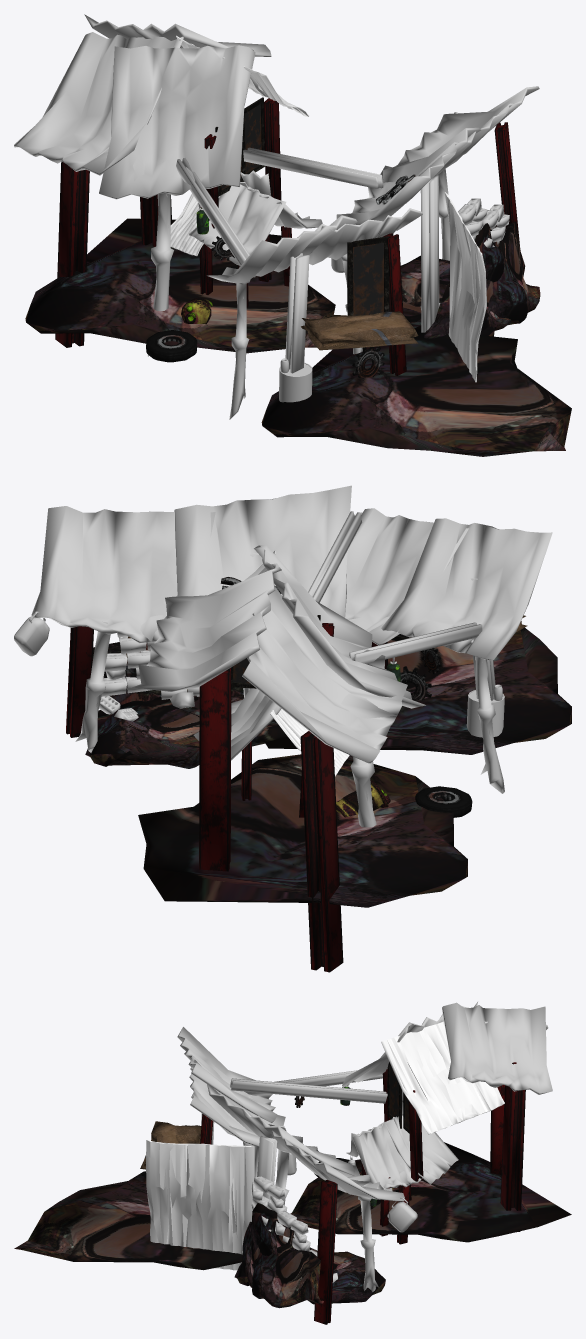
File: Lil Chinese street.fbx
The picture shows the model from 3 angles, top to bottom: view 1: azimuth 30°, elevation 25°; view 2: azimuth 150°, elevation 25°; view 3: azimuth 270°, elevation 25°; orthographic projection. The views are drawn at different scales.
Parts seen in each view (by area): view 1: Cube.023, Corrugated_Roof_003.006, Cube.024, Corrugated_Roof_005.008, low_poly_metal_sheet1.006, IronBeam01_001.030, Cardboard02_2.001, Corrugated_Roof_002.007, fenceDoor.010, Corrugated_Roof_002.008, Corrugated_Roof_005.006, Corrugated_Roof_002.006 (+28 smaller); view 2: Cube.024, Corrugated_Roof_005.006, Corrugated_Roof_002.006, Corrugated_Roof_002.007, Cube.023, Corrugated_Roof_005.008, Corrugated_Roof_002.009, Corrugated_Roof_005.005, IronBeam01_001.030, IronBeam01_001.029, Cube.019, Corrugated_Roof_003.006 (+16 smaller); view 3: low_poly_metal_sheet1.006, Cube.024, Cube.023, Corrugated_Roof_002.009, low_poly_metal_sheet1.008, Cube.018, IronBeam01_001.029, Corrugated_Roof_002.006, Corrugated_Roof_005.007, IronBeam01.002, Corrugated_Roof_005.006, IronBeam01_001.020 (+18 smaller).
Part boxes in pixels (box(x1,y1,x2,y2)): Cube.023: box(261, 325, 571, 456); Corrugated_Roof_003.006: box(99, 45, 255, 199); Cube.024: box(25, 218, 335, 353); Corrugated_Roof_005.008: box(14, 32, 183, 175); low_poly_metal_sheet1.006: box(444, 192, 486, 382); IronBeam01_001.030: box(55, 161, 89, 347); Cardboard02_2.001: box(301, 311, 418, 350); Corrugated_Roof_002.007: box(336, 127, 480, 224); fenceDoor.010: box(347, 236, 389, 315); Corrugated_Roof_002.008: box(189, 184, 286, 265); Corrugated_Roof_005.006: box(380, 86, 539, 179); Corrugated_Roof_002.006: box(207, 215, 357, 283); Cube.024: box(138, 754, 467, 907); Corrugated_Roof_005.006: box(31, 506, 215, 643); Corrugated_Roof_002.006: box(381, 518, 552, 659); Corrugated_Roof_002.007: box(174, 485, 351, 617); Cube.023: box(264, 627, 571, 754); Corrugated_Roof_005.008: box(242, 587, 407, 763); Corrugated_Roof_002.009: box(132, 567, 281, 691); Corrugated_Roof_005.005: box(345, 508, 468, 645); IronBeam01_001.030: box(300, 731, 343, 972); IronBeam01_001.029: box(199, 668, 231, 871); Cube.019: box(85, 697, 199, 768); Corrugated_Roof_003.006: box(254, 545, 425, 708); low_poly_metal_sheet1.006: box(146, 1140, 254, 1270); Cube.024: box(290, 1142, 571, 1242); Cube.023: box(14, 1171, 242, 1270); Corrugated_Roof_002.009: box(442, 1002, 552, 1094); low_poly_metal_sheet1.008: box(381, 1021, 504, 1134); Cube.018: box(251, 1244, 323, 1308); IronBeam01_001.029: box(500, 1062, 525, 1232); Corrugated_Roof_002.006: box(177, 1027, 277, 1122); Corrugated_Roof_005.007: box(352, 1116, 422, 1189); IronBeam01.002: box(314, 1180, 337, 1324); Corrugated_Roof_005.006: box(272, 1130, 404, 1201); IronBeam01_001.020: box(229, 1078, 387, 1103).
Size of the model in its own units: 31.33 by 21.47 by 42.48.
